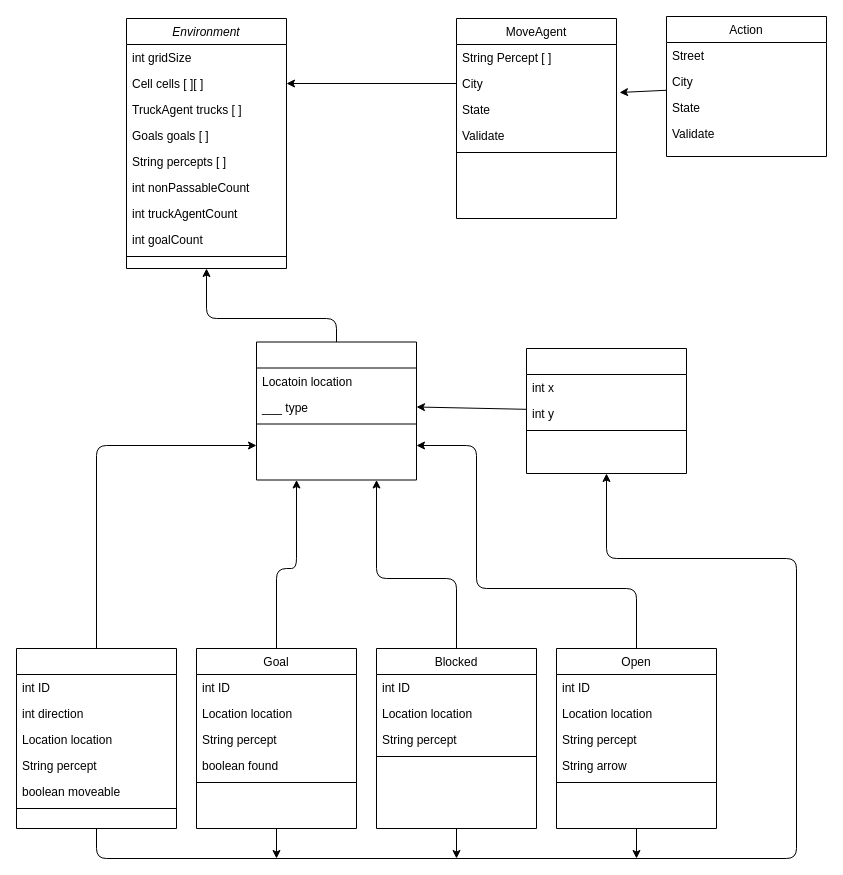
This 843x875 diagram has some shape labels left out. The shapes that lost their labels are listed below. From the top down, each one's box as (x1, y1, x2, y2) in pixels, then its label:
(256, 341, 416, 480): Cell
(526, 348, 686, 474): Location
(16, 648, 176, 828): TruckAgent
